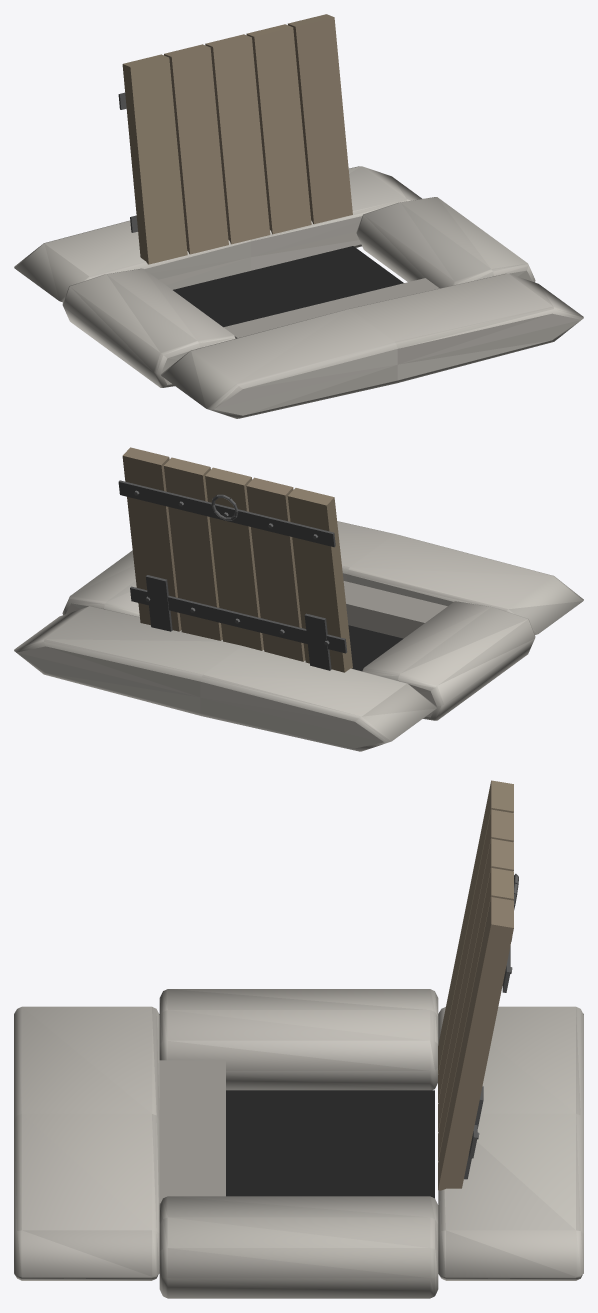
File: storm_shelter_hatch_open_a.glb
The picture shows the model from 3 angles, top to bottom: view 1: azimuth 30°, elevation 25°; view 2: azimuth 150°, elevation 25°; view 3: azimuth 270°, elevation 25°; orthographic projection. The views are drawn at different scales.
Parts seen in each view (by area): view 1: body, hatch; view 2: body, hatch; view 3: body, hatch.
Boxes of the visible parts, x1,y1,x2,y2 form: body: [14, 166, 583, 418]; hatch: [118, 14, 352, 264]; body: [14, 521, 583, 751]; hatch: [118, 447, 352, 672]; body: [14, 989, 583, 1298]; hatch: [438, 780, 518, 1190].
Size of what is drawn, in the model's own units: 1.92 by 1.07 by 1.72.
